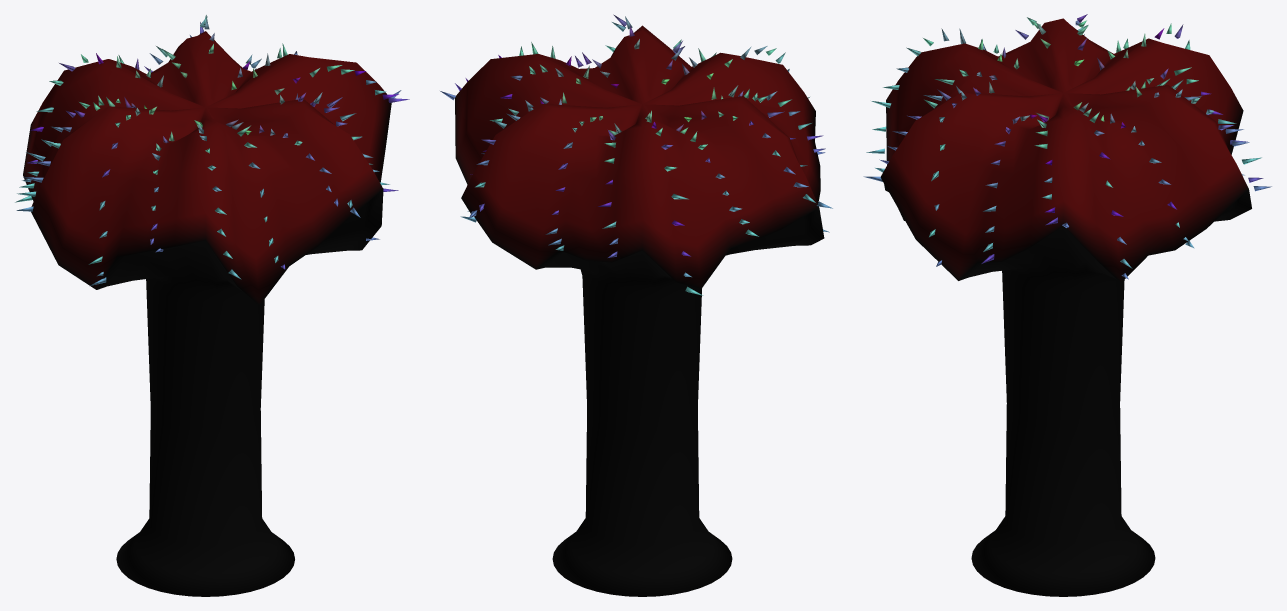
The model's file is anemone_plumose_game.glb.
The picture shows the model from 3 angles, left to right: view 1: azimuth 30°, elevation 25°; view 2: azimuth 150°, elevation 25°; view 3: azimuth 270°, elevation 25°; orthographic projection. The views are drawn at different scales.
Parts seen in each view (by area): view 1: anemone_plumose_game; view 2: anemone_plumose_game; view 3: anemone_plumose_game.
Boxes of the visible parts, box(x1,y1,x2,y2) form: anemone_plumose_game: box(15, 15, 409, 596); anemone_plumose_game: box(440, 14, 832, 596); anemone_plumose_game: box(863, 14, 1271, 596).
Size of the model in its own units: 0.3921 by 0.4691 by 0.348.
